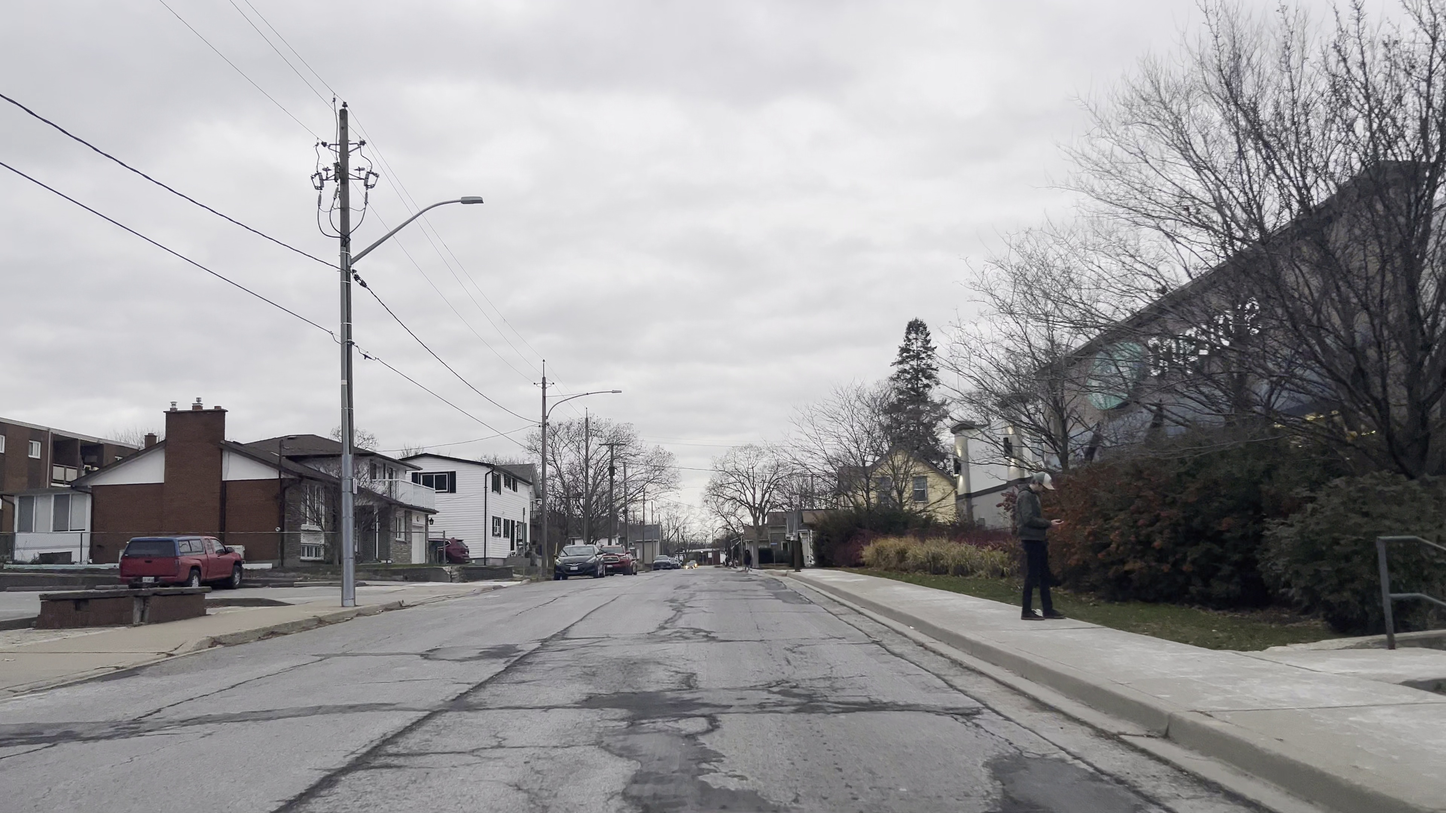cracks: (591, 714, 781, 813), (762, 670, 983, 720), (6, 706, 162, 757), (582, 671, 743, 715), (646, 612, 724, 651)
pothole: (972, 748, 1169, 813), (419, 636, 525, 670)
